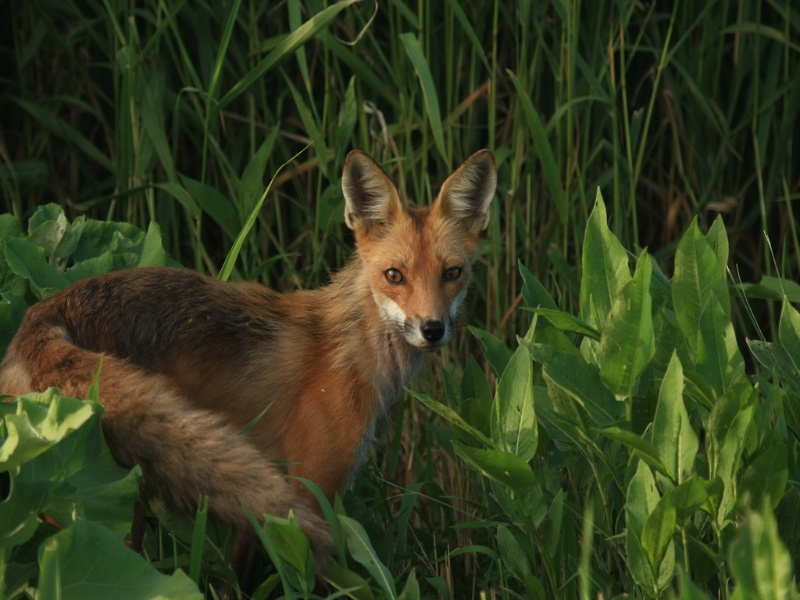fox: (11, 150, 500, 586)
